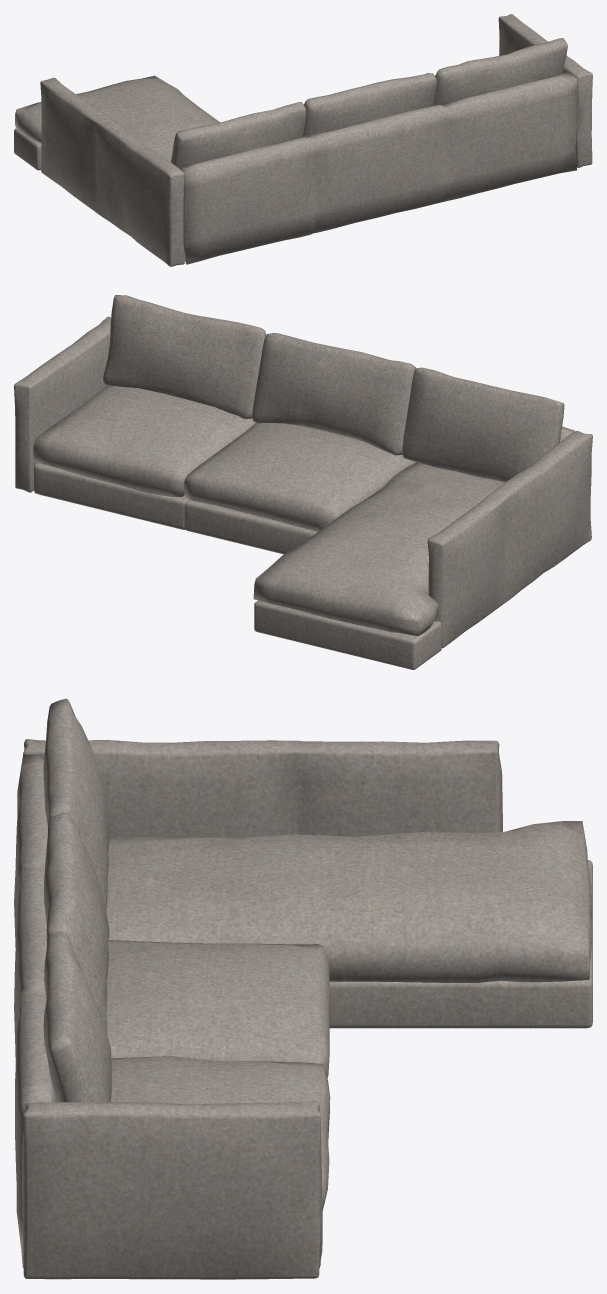
Rendered from corner_sofa (1).glb.
3 renders of one model, top to bottom at view 1: azimuth 30°, elevation 25°; view 2: azimuth 150°, elevation 25°; view 3: azimuth 270°, elevation 25°, orthographic. The views are drawn at different scales.
Size of the model in its own units: 3.07 by 0.8615 by 1.97.
Materials: 1 (1 with a texture image).
